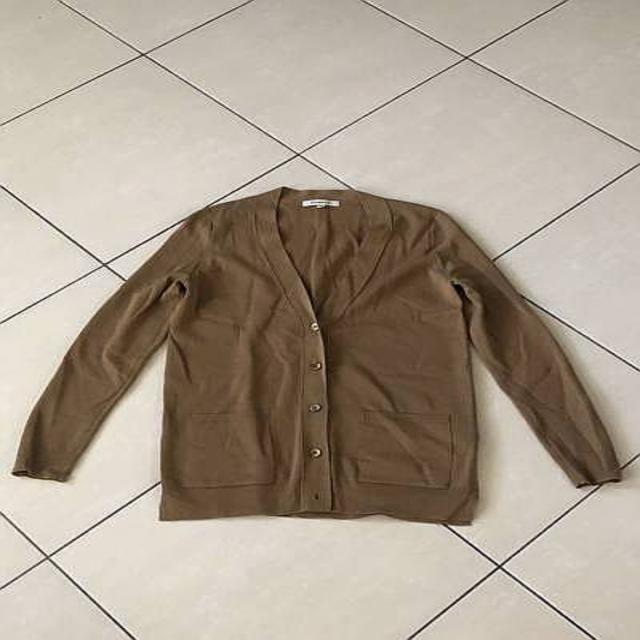SHIRT: (0, 181, 629, 530)
